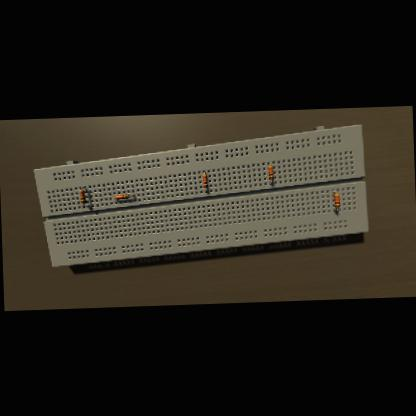breadboard: (32, 124, 368, 268)
resistor: (333, 194, 339, 208), (78, 190, 84, 203), (115, 194, 128, 199), (202, 174, 206, 188), (268, 165, 272, 179)
wire: (83, 204, 89, 207), (333, 208, 337, 211), (332, 190, 336, 192), (80, 188, 84, 190), (269, 180, 271, 184), (205, 188, 206, 192), (268, 163, 270, 165), (203, 171, 204, 173)
